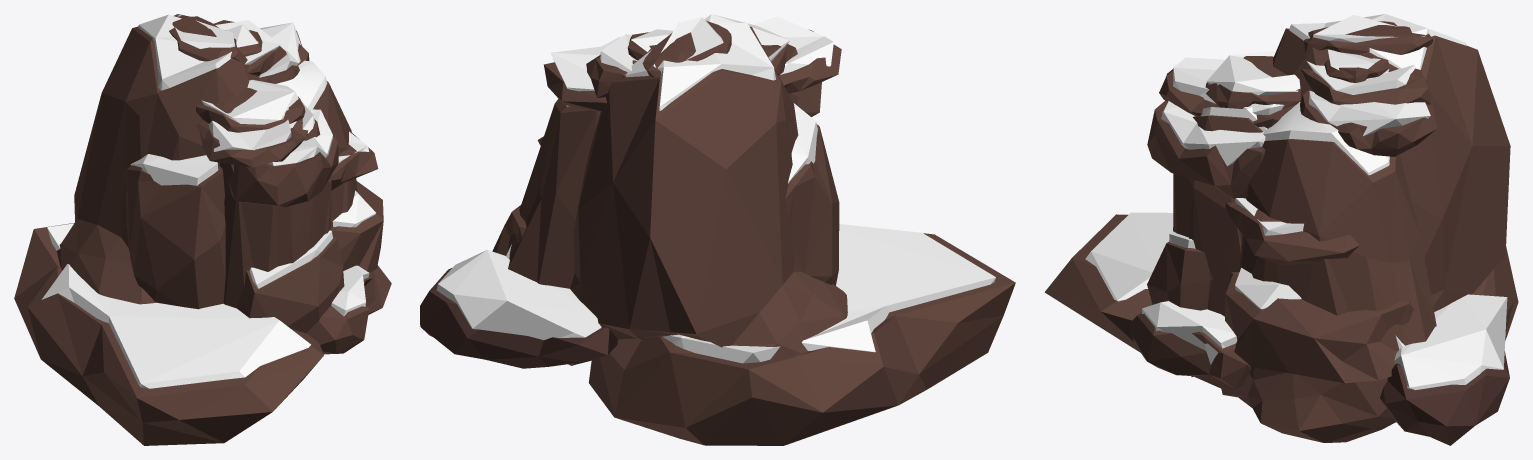
File: snow_rock_024.fbx
3 views of the same model, side by side, from view 1: azimuth 30°, elevation 25°; view 2: azimuth 150°, elevation 25°; view 3: azimuth 270°, elevation 25° (orthographic). The views are drawn at different scales.
Parts seen in each view (by area): view 1: snow_rock_024; view 2: snow_rock_024; view 3: snow_rock_024.
Part boxes in pixels (left/top/right/bottom): snow_rock_024: left=14, top=14, right=391, bottom=445; snow_rock_024: left=420, top=14, right=1015, bottom=445; snow_rock_024: left=1044, top=14, right=1518, bottom=445.
Bounding box in the file's own units: 1330 × 1290 × 1071.
